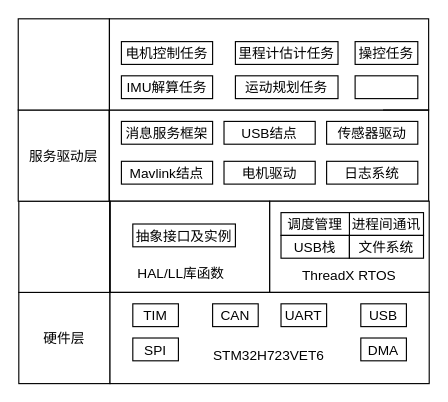
This 448x402 diagram has some shape labels left out. Here are the shapes that lost their labels. From the top down, the centre of each, then its label:
[63,64]: 任务软件层
[386,87]: 主状态机
[64,246]: 操作系统层
